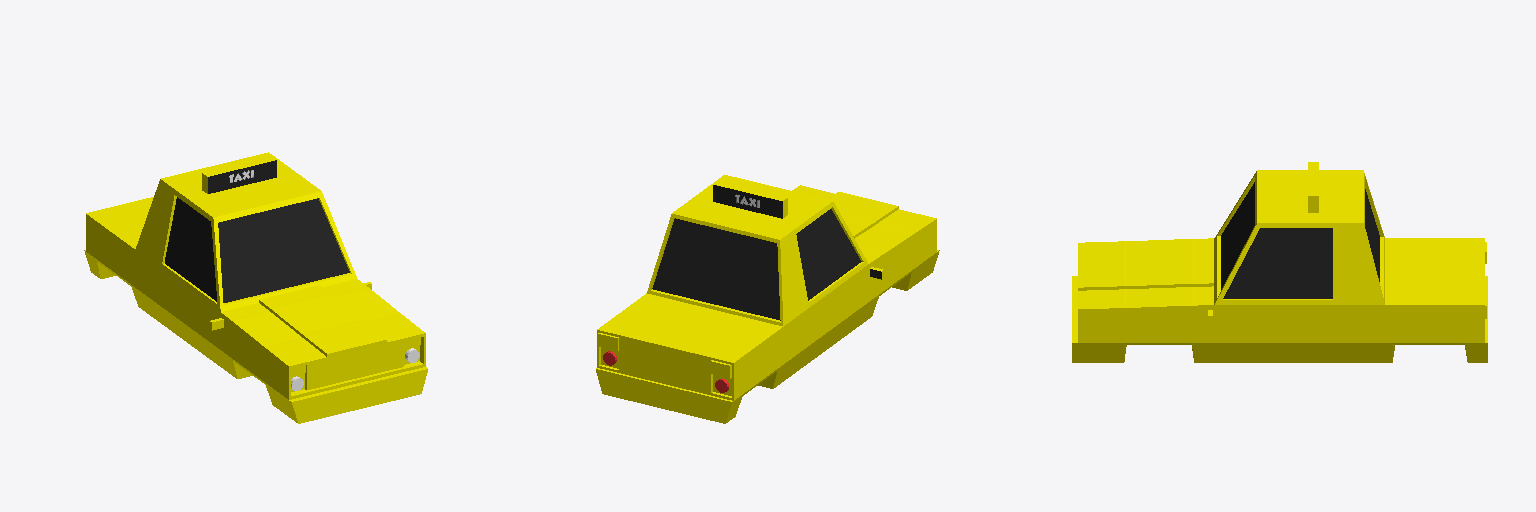
The picture shows the model from 3 angles: view 1: azimuth 30°, elevation 25°; view 2: azimuth 150°, elevation 25°; view 3: azimuth 270°, elevation 25°; orthographic projection.
Parts seen in each view (by area): view 1: Cylinder004; view 2: Cylinder004; view 3: Cylinder004.
Part boxes in pixels (left/top/right/bottom): Cylinder004: left=84, top=152, right=427, bottom=423; Cylinder004: left=596, top=175, right=939, bottom=423; Cylinder004: left=1072, top=162, right=1487, bottom=362.
Bounding box in the file's own units: 24.66 × 22.7 × 55.29.
Materials: 1 (1 with a texture image).